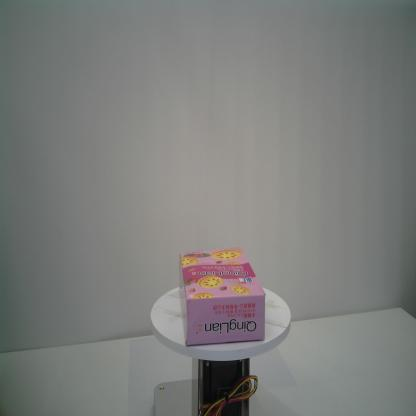Dessert: (177, 245, 267, 348)
